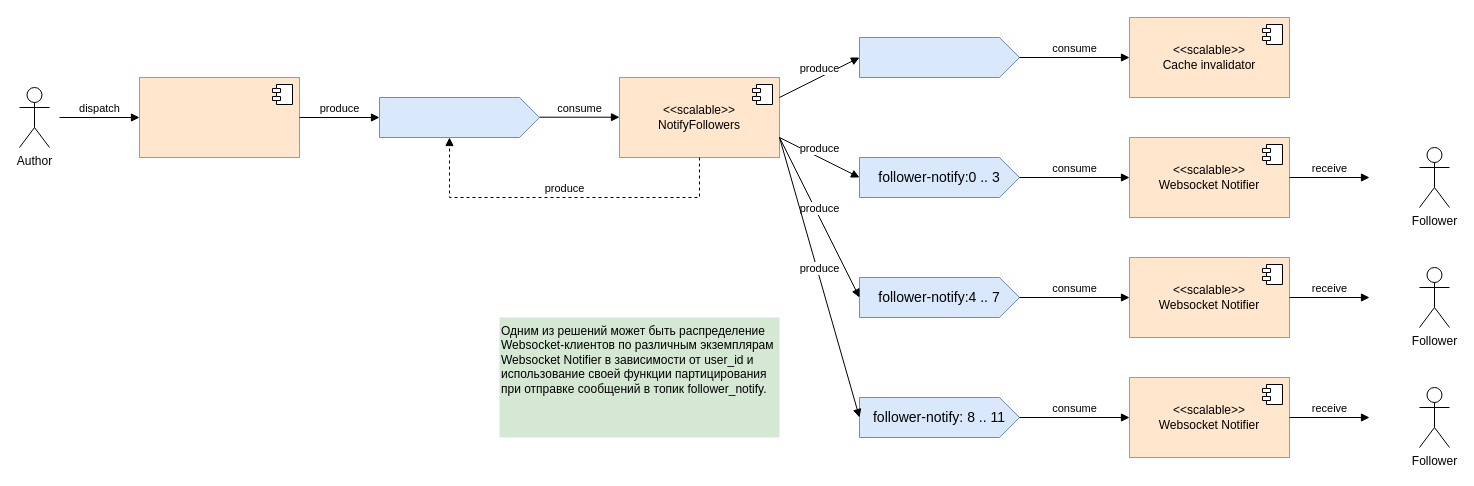
Some shapes in this 1474 by 486 pixel diagram are drawn without their labels. The centre of each missing label's shape, as x and y in pixels:
"<<scalable>> API" belongs at point 219,117.
"feed-changed" belongs at point 939,57.
"post-modified" belongs at point 459,117.
